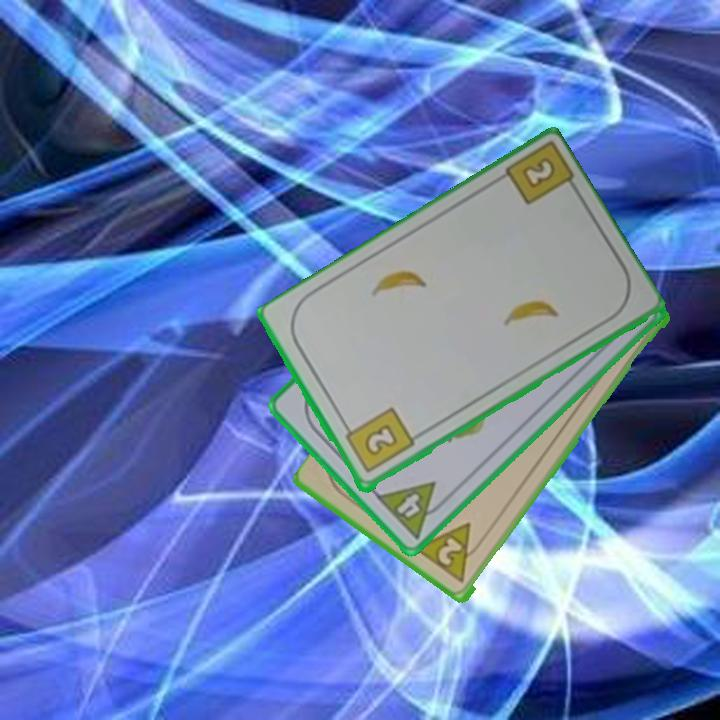2b: (340, 404, 417, 477), (518, 154, 559, 192)
2p: (434, 534, 466, 569)
4p: (372, 478, 453, 542)
